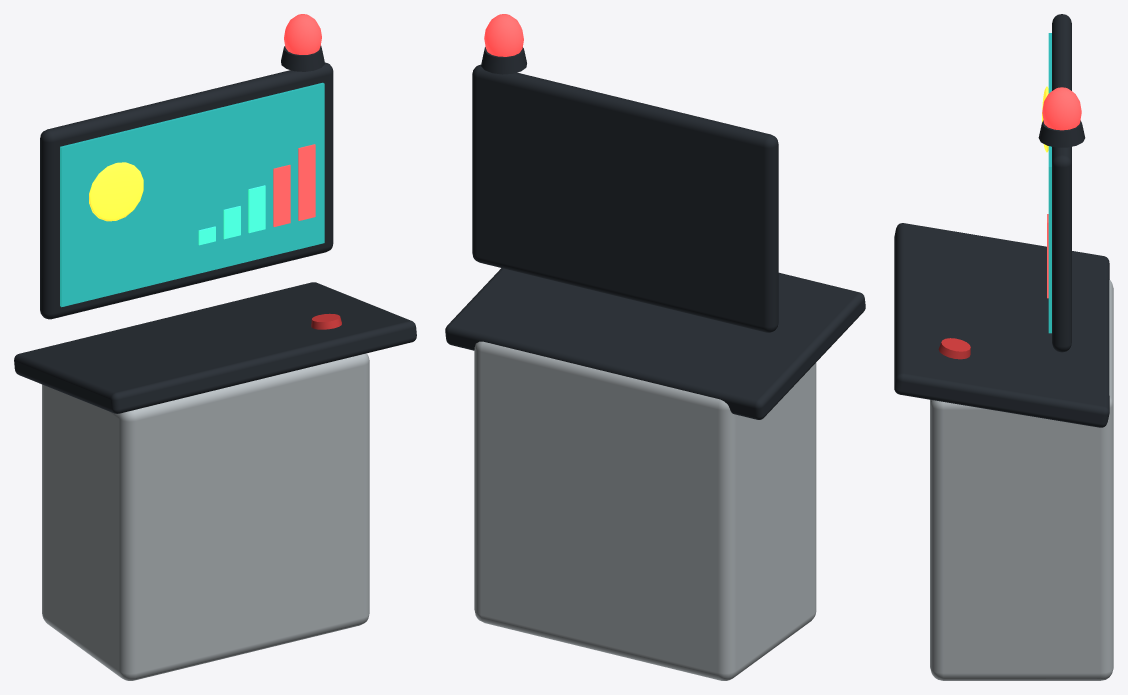
File: space-weather-console.glb
3 renders of one model, left to right at view 1: azimuth 30°, elevation 25°; view 2: azimuth 150°, elevation 25°; view 3: azimuth 270°, elevation 25°, orthographic. The views are drawn at different scales.
Visible parts, largest first — view 1: space-weather-console-panel-grey, display, space-weather-console-dark-polymer, main_screen-dark-polymer, main_screen-led-amber, main_screen-led-red, main_screen-led-green, beacon_lamp, alert_beacon-dark-polymer; view 2: space-weather-console-panel-grey, main_screen-dark-polymer, space-weather-console-dark-polymer, beacon_lamp, alert_beacon-dark-polymer; view 3: space-weather-console-panel-grey, space-weather-console-dark-polymer, main_screen-dark-polymer, beacon_lamp, display, alert_beacon-dark-polymer, ack_cap.
Part boxes in pixels (x1=…): space-weather-console-panel-grey: x1=42, y1=353, x2=369, y2=680; display: x1=60, y1=82, x2=324, y2=307; space-weather-console-dark-polymer: x1=14, y1=282, x2=416, y2=413; main_screen-dark-polymer: x1=40, y1=62, x2=333, y2=319; main_screen-led-amber: x1=89, y1=162, x2=143, y2=221; main_screen-led-red: x1=273, y1=144, x2=315, y2=226; main_screen-led-green: x1=198, y1=185, x2=265, y2=245; beacon_lamp: x1=284, y1=14, x2=321, y2=54; alert_beacon-dark-polymer: x1=281, y1=45, x2=324, y2=71; space-weather-console-panel-grey: x1=474, y1=341, x2=816, y2=680; main_screen-dark-polymer: x1=472, y1=64, x2=778, y2=332; space-weather-console-dark-polymer: x1=445, y1=268, x2=865, y2=419; beacon_lamp: x1=484, y1=14, x2=523, y2=56; alert_beacon-dark-polymer: x1=481, y1=47, x2=526, y2=74; space-weather-console-panel-grey: x1=930, y1=280, x2=1113, y2=680; space-weather-console-dark-polymer: x1=894, y1=223, x2=1109, y2=427; main_screen-dark-polymer: x1=1052, y1=14, x2=1071, y2=352; beacon_lamp: x1=1042, y1=87, x2=1081, y2=130; display: x1=1048, y1=33, x2=1051, y2=333; alert_beacon-dark-polymer: x1=1038, y1=120, x2=1085, y2=147; ack_cap: x1=938, y1=338, x2=970, y2=359.
Bounding box in the file's own units: 1.1 × 1.96 × 0.6574.
